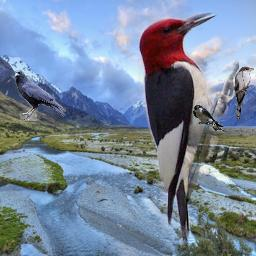Crow: (13, 70, 66, 121)
Cuckoo: (234, 66, 254, 119)
Swallow: (193, 105, 224, 131)
Woodpecker: (138, 11, 239, 251)
